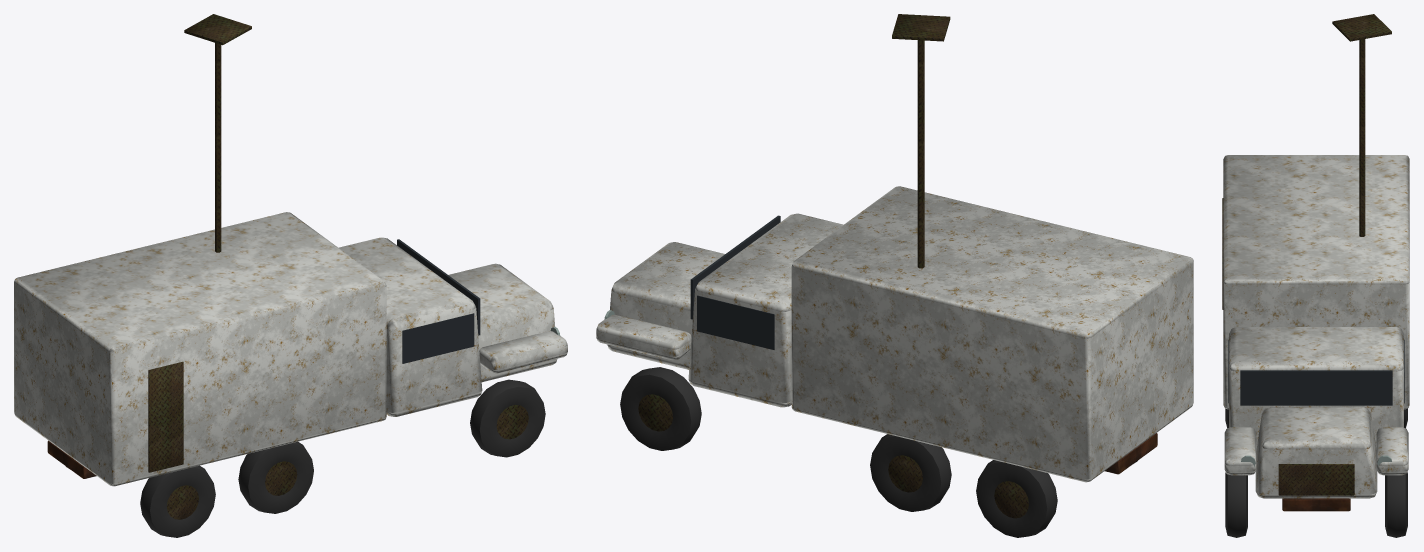
The model's file is veh_truck_kung.gltf.
3 views of the same model, side by side, from view 1: azimuth 30°, elevation 25°; view 2: azimuth 150°, elevation 25°; view 3: azimuth 270°, elevation 25° (orthographic). The views are drawn at different scales.
Visible parts, largest first — view 1: box.009, box.004, box.001, torus, box.010, torus.004, torus.002, box.006, box.002, cyl.002, box.011, cyl.007 (+3 smaller); view 2: box.009, box.004, box.001, torus.001, torus.005, torus.003, box.007, box.003, cyl.002, box.011, cyl.008, cyl.004 (+2 smaller); view 3: box.009, box.004, box.001, box.005, box.008, box.003, box.002, torus, torus.001, cyl.002, box.011, box.
Boxes of the visible parts, left/top/right/bottom form: box.009: left=14, top=212, right=386, bottom=486; box.004: left=339, top=237, right=482, bottom=416; box.001: left=448, top=263, right=557, bottom=382; torus: left=470, top=379, right=545, bottom=457; box.010: left=148, top=361, right=183, bottom=472; torus.004: left=140, top=465, right=215, bottom=537; torus.002: left=238, top=441, right=313, bottom=513; box.006: left=402, top=313, right=474, bottom=363; box.002: left=479, top=331, right=567, bottom=373; cyl.002: left=215, top=43, right=221, bottom=252; box.011: left=184, top=14, right=251, bottom=45; cyl.007: left=166, top=485, right=198, bottom=519; box.009: left=791, top=186, right=1193, bottom=482; box.004: left=688, top=213, right=843, bottom=407; box.001: left=607, top=242, right=724, bottom=369; torus.001: left=620, top=367, right=701, bottom=450; torus.005: left=976, top=460, right=1057, bottom=537; torus.003: left=870, top=434, right=951, bottom=511; box.007: left=697, top=295, right=774, bottom=349; box.003: left=596, top=314, right=691, bottom=360; cyl.002: left=917, top=40, right=924, bottom=268; box.011: left=892, top=14, right=950, bottom=41; cyl.008: left=994, top=481, right=1028, bottom=518; cyl.004: left=638, top=394, right=672, bottom=431; box.009: left=1223, top=155, right=1409, bottom=409; box.004: left=1229, top=327, right=1403, bottom=450; box.001: left=1255, top=407, right=1377, bottom=498; box.005: left=1240, top=370, right=1392, bottom=405; box.008: left=1278, top=464, right=1354, bottom=495; box.003: left=1376, top=427, right=1408, bottom=475; box.002: left=1224, top=427, right=1256, bottom=475; torus: left=1225, top=472, right=1247, bottom=537; torus.001: left=1385, top=472, right=1407, bottom=537; cyl.002: left=1359, top=39, right=1365, bottom=236; box.011: left=1332, top=14, right=1391, bottom=41; box: left=1282, top=498, right=1350, bottom=511.
Bounding box in the file's own units: 6.69 × 5.88 × 2.47.
6 materials, 3 textured.
